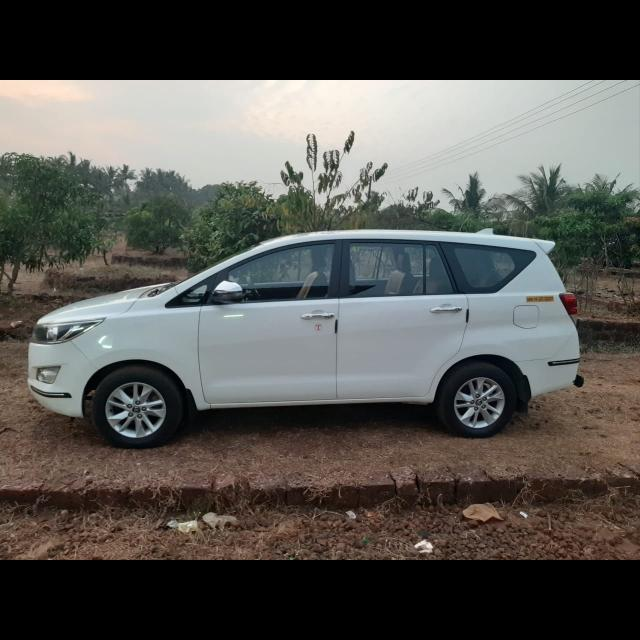vehicles: (26, 229, 584, 445)
